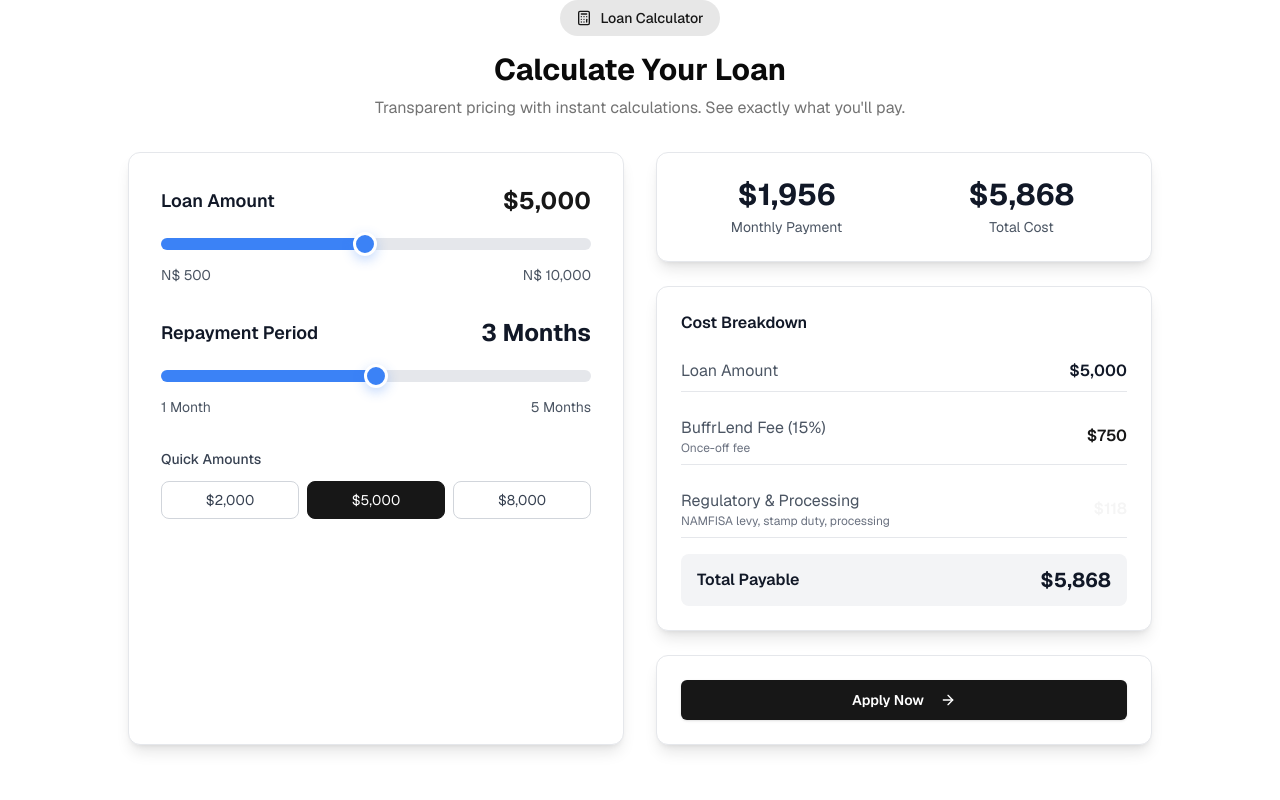
LoanCalculator Component › updates calculations when using quick amount buttons
The image size is (1280, 800).
Note: Find the button specifically (not the display value)
Click the button "$2,000" at (230, 500), box [161, 481, 299, 519]
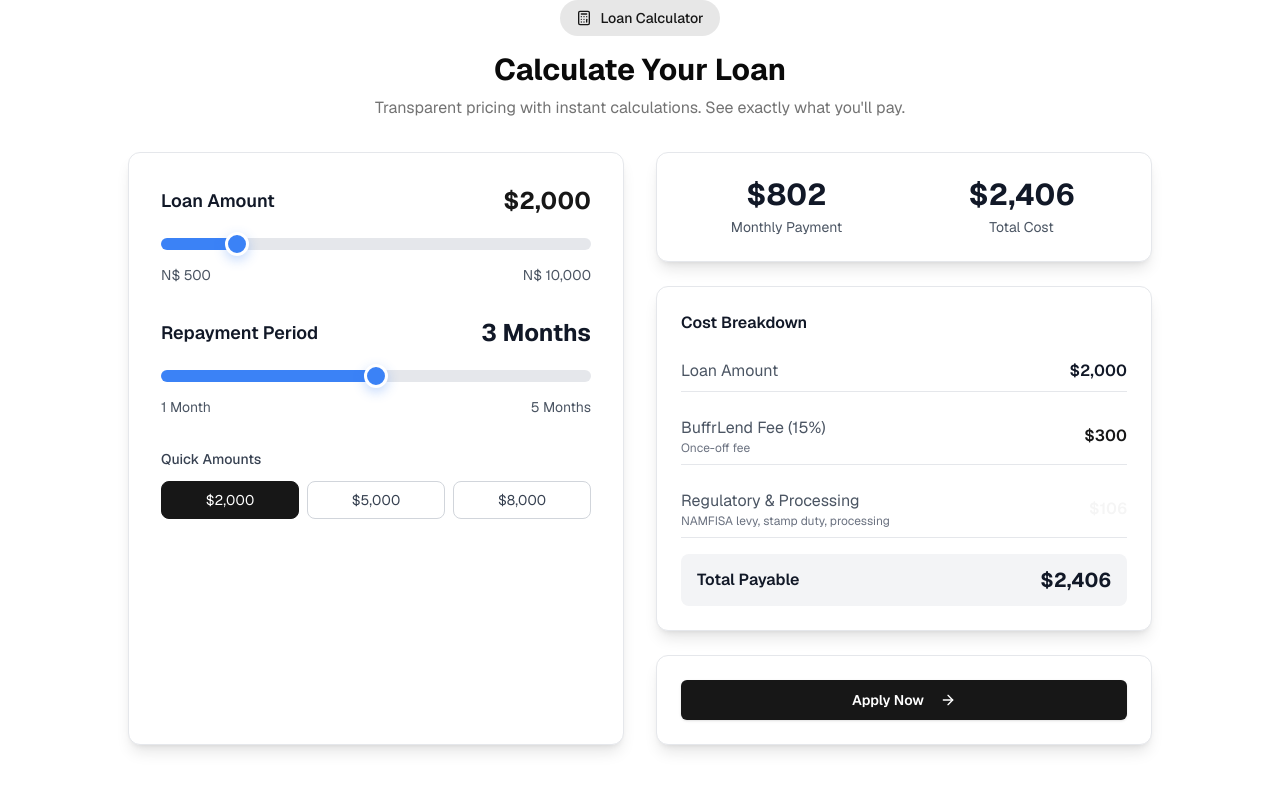
Result: the 1st slider showing "2000" is shown at [161, 238, 591, 250]
